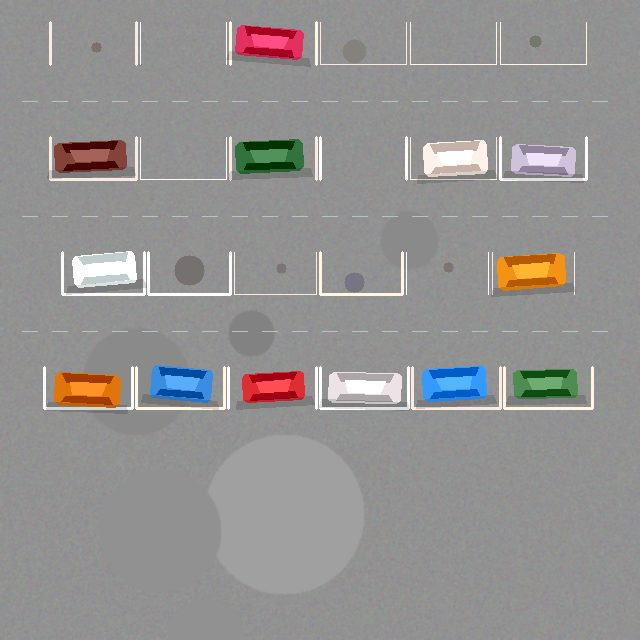space-empty: (50, 22, 136, 64), (140, 22, 226, 64), (320, 22, 406, 64), (410, 22, 496, 64), (500, 22, 586, 64), (140, 137, 226, 179), (320, 137, 406, 179), (148, 252, 230, 294), (234, 252, 316, 294), (320, 252, 402, 294), (406, 252, 488, 294)
space-occupied: (230, 22, 316, 64), (50, 137, 136, 179), (230, 137, 316, 179), (410, 137, 496, 179), (500, 137, 586, 179), (44, 367, 132, 408), (136, 367, 224, 408), (228, 367, 316, 408), (320, 367, 408, 408), (412, 367, 500, 408), (504, 367, 592, 408), (62, 252, 144, 294), (492, 252, 574, 294)
